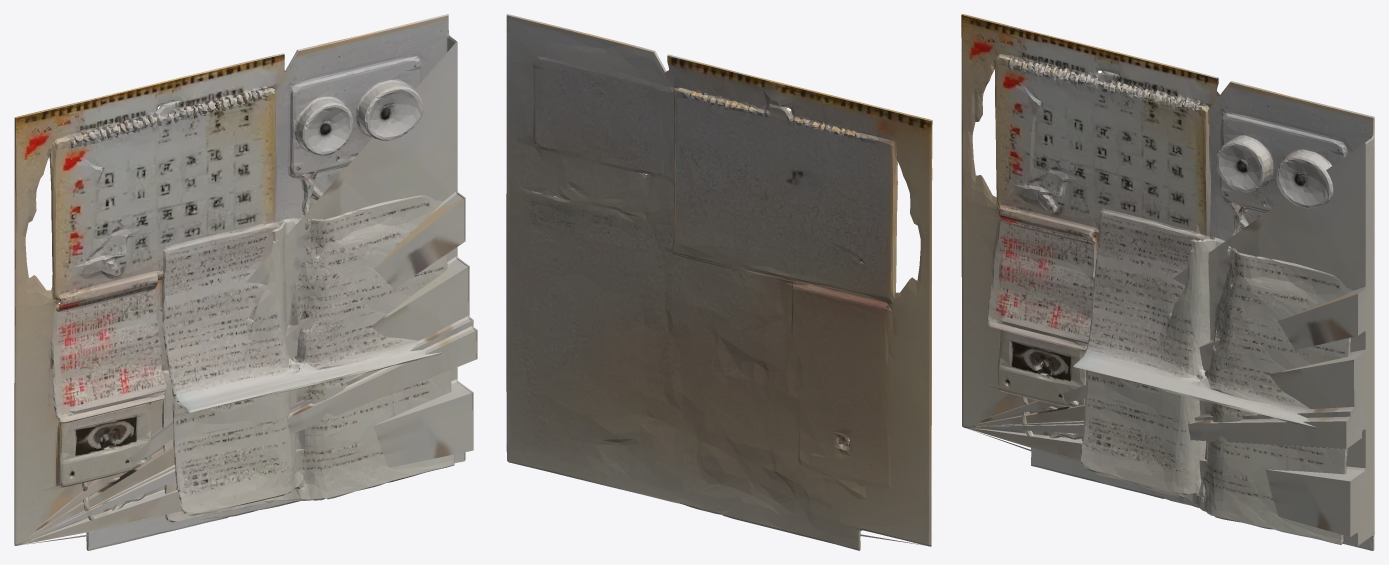
Rendered from belly (108).glb.
3 renders of one model, left to right at view 1: azimuth 30°, elevation 25°; view 2: azimuth 150°, elevation 25°; view 3: azimuth 330°, elevation 25°, orthographic. The views are drawn at different scales.
Parts seen in each view (by area): view 1: Hy21_Mesh.obj; view 2: Hy21_Mesh.obj; view 3: Hy21_Mesh.obj.
Part boxes in pixels (x1=…): Hy21_Mesh.obj: x1=14, y1=14, x2=477, y2=550; Hy21_Mesh.obj: x1=506, y1=14, x2=932, y2=550; Hy21_Mesh.obj: x1=961, y1=14, x2=1374, y2=550.
Bounding box in the file's own units: 1.95 × 1.96 × 0.2734.
1 material, 1 textured.
